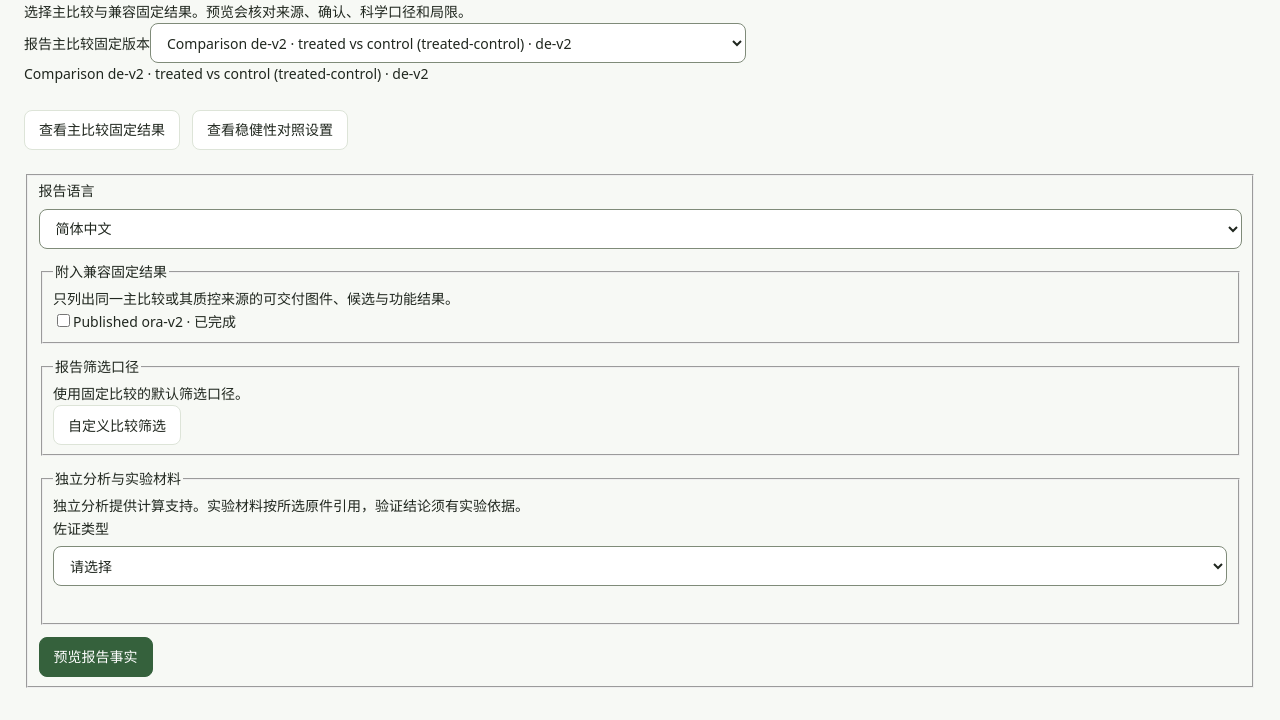
recovers the original Bulk report preparation key and selection after reload
The image size is (1280, 720).
Later steps or results of the test are not shown.
(page scrolled)
What coordinates should you click on to do the following:
click the button "预览报告事实"
I would click on:
 (96, 657)
Its box is [38,637,152,677].
(page scrolled)
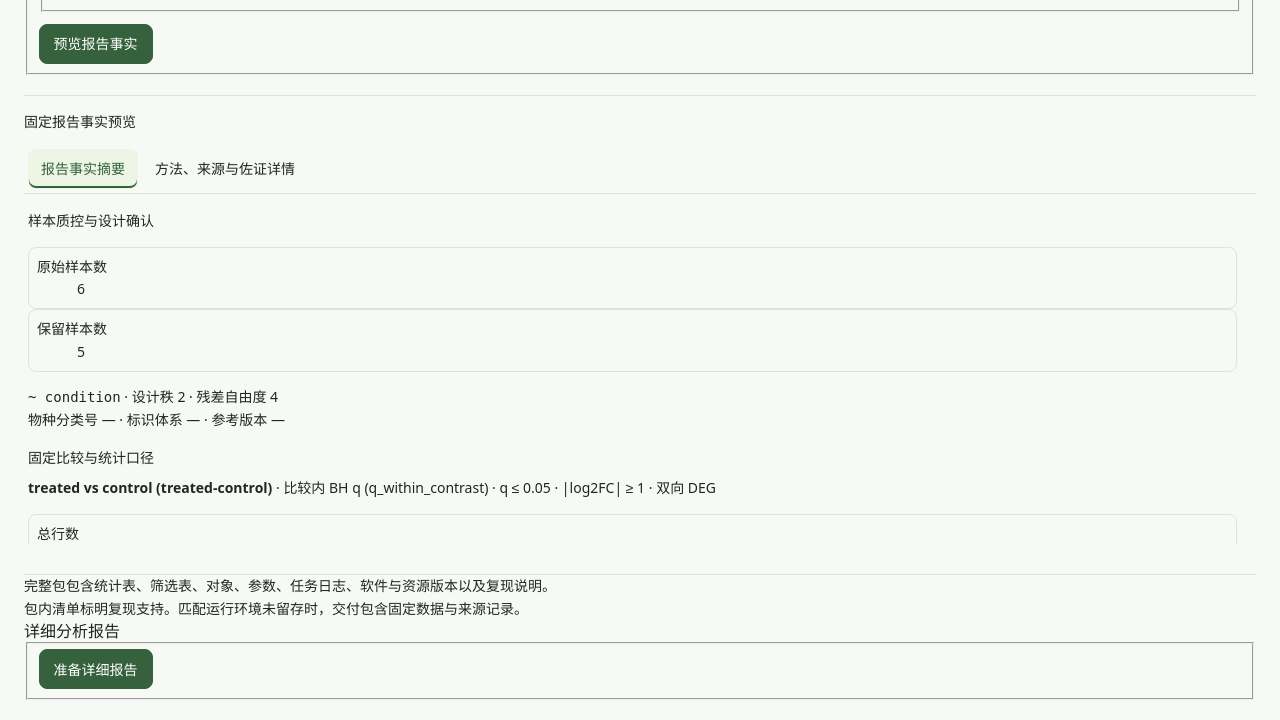
What coordinates should you click on to do the following:
click the button "准备详细报告"
I would click on:
 (96, 669)
Its box is [38,649,152,689].
(page scrolled)
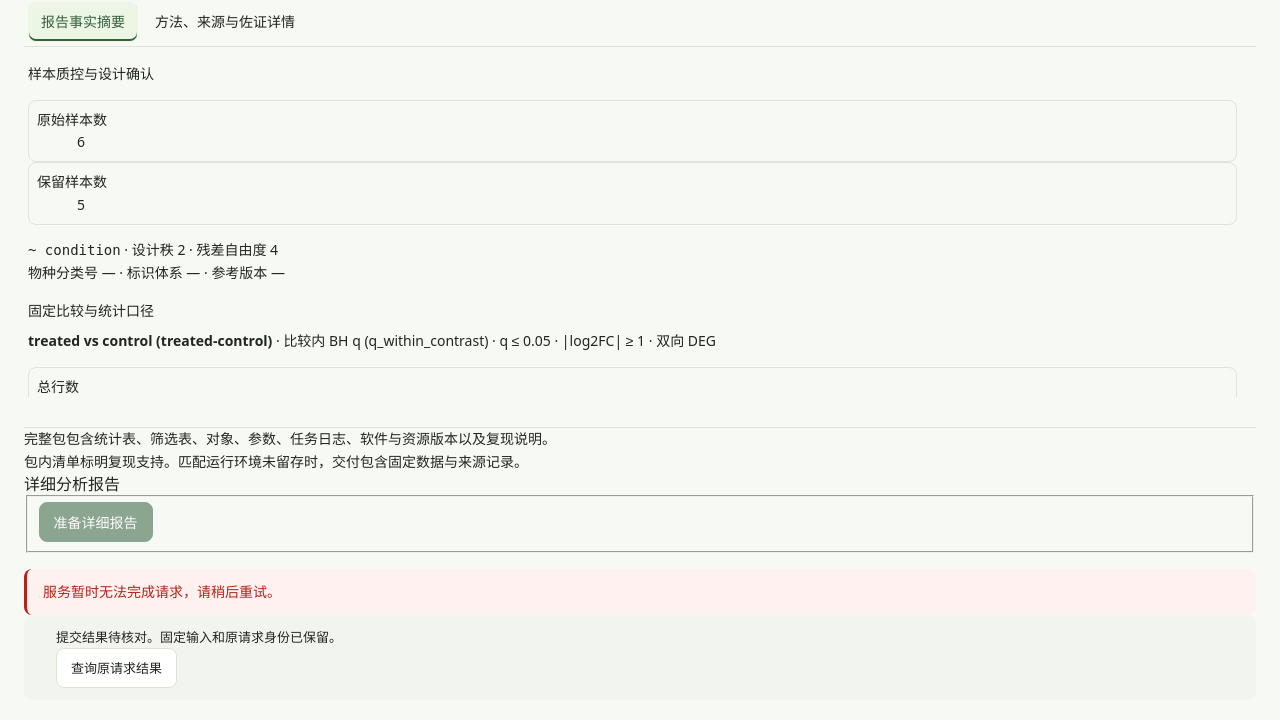
Expected: the button "查询原请求结果" is shown, [56,648,177,688]
